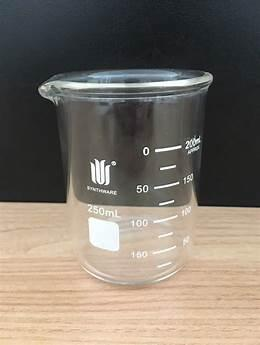Beaker: (33, 65, 213, 289)
